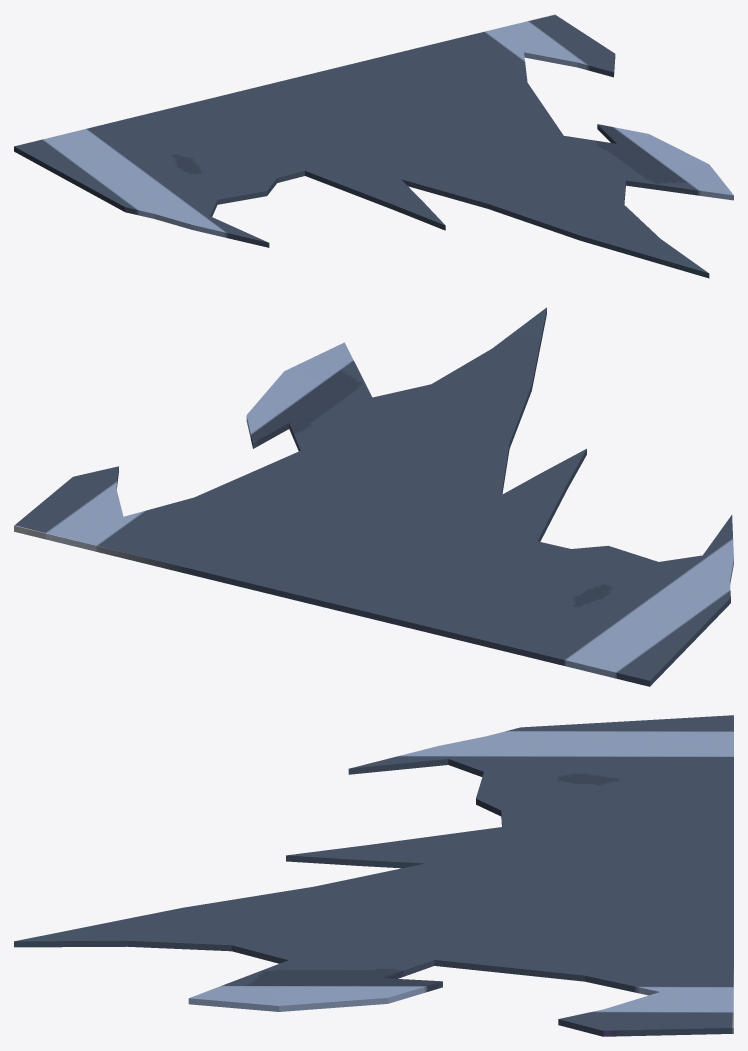
File: Carpet 01 End 02.fbx
3 views of the same model, one above another, from view 1: azimuth 30°, elevation 25°; view 2: azimuth 150°, elevation 25°; view 3: azimuth 270°, elevation 25° (orthographic). The views are drawn at different scales.
Parts seen in each view (by area): view 1: Carpet 01 End 02.002; view 2: Carpet 01 End 02.002; view 3: Carpet 01 End 02.002.
Part boxes in pixels (<box>): Carpet 01 End 02.002: <box>14,14,733,278</box>; Carpet 01 End 02.002: <box>14,307,733,686</box>; Carpet 01 End 02.002: <box>14,715,733,1036</box>.
Bounding box in the file's own units: 168 × 1.5 × 162.
